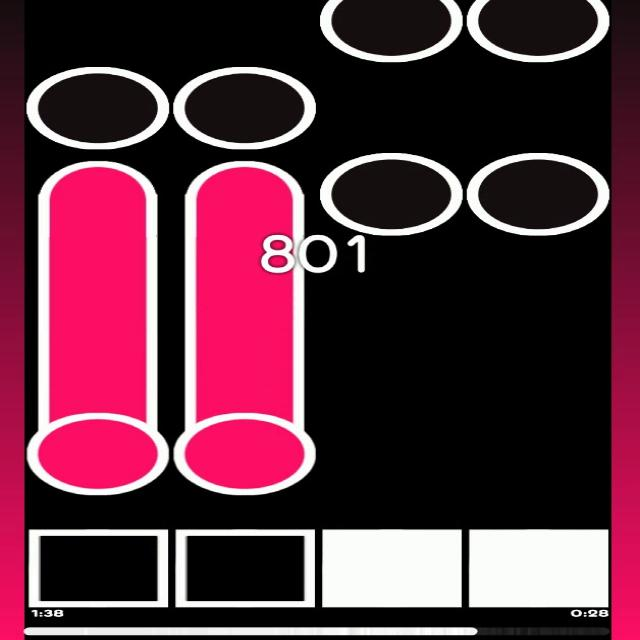end_hold: (179, 154, 309, 194), (34, 155, 160, 195)
note: (23, 66, 170, 149), (466, 152, 607, 237), (175, 67, 317, 151), (320, 151, 460, 236), (464, 0, 608, 64), (318, 0, 464, 63)
start_hold: (26, 394, 170, 494), (175, 394, 319, 494)
